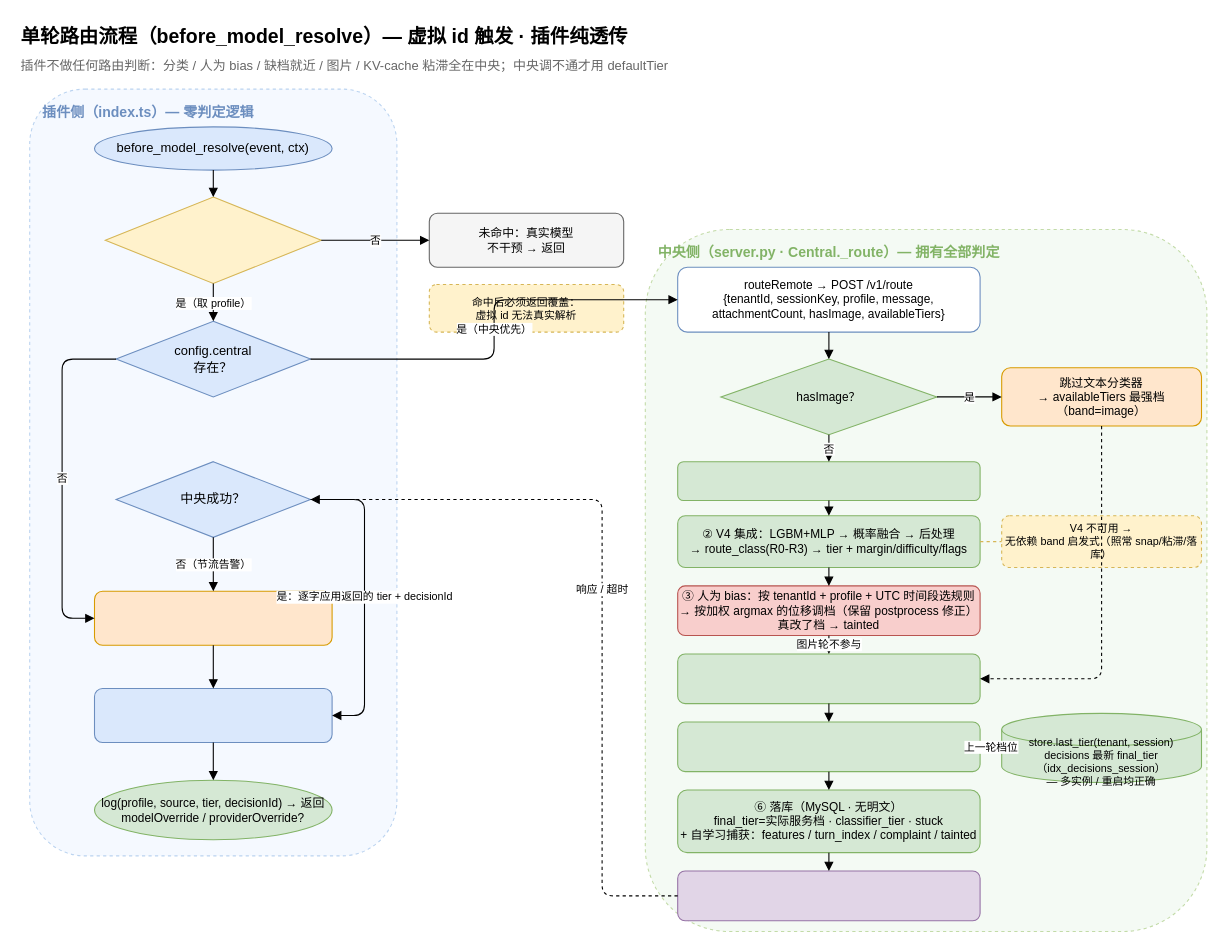
This 1226x950 diagram has some shape labels left out. The shapes that lost their labels are listed below. From the top down, each one's centre as x and y in pixels, then its label:
At (212,240): "触发门：ctx 的 provider/modelId 命中某个 profiles 虚拟 id？".
At (828,481): "① 390维特征装配（BGE-ONNX 进程内 · CPU）".
At (212,617): "tier = profile.defaultTier （唯一兜底：一个常量，不是本地猜测）".
At (828,678): "④ snap_to_available：落到客户端能服务的档 缺档向上，不静默降级".
At (212,714): "targetForTier(profile, tier) 纯查表 → 真实模型（中央已保证可服务）".
At (828,746): "⑤ apply_sticky：短续轮不得低于上一轮档位 （保 KV-cache）；升档放行".
At (828,895): "⑦ 返回 { tier, decisionId, confidence, meta } （通用协议；tier 即实际服务档）".
